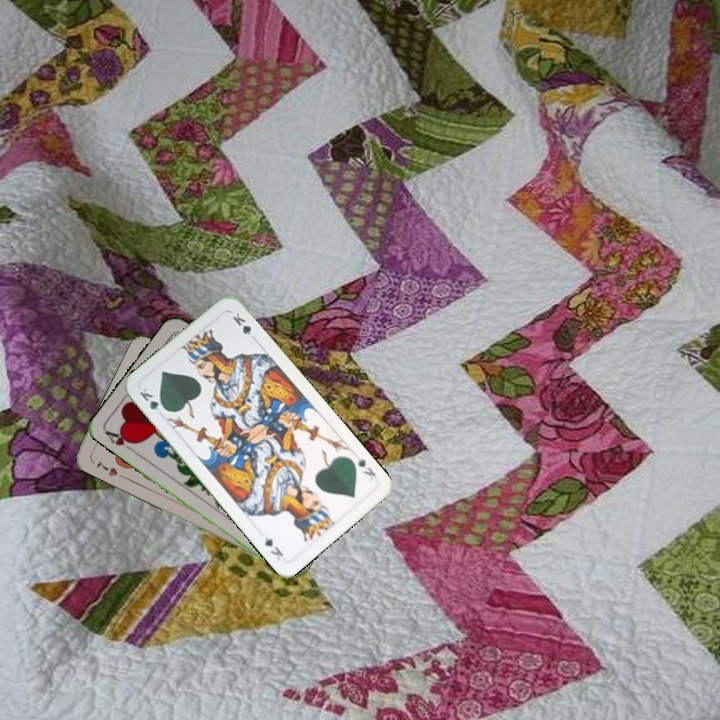GK: (135, 384, 170, 415), (350, 450, 379, 479)
H7: (92, 456, 120, 479)
HA: (101, 427, 138, 455)
